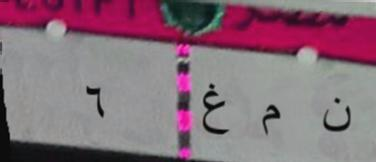6: (83, 82, 110, 121)
ghayn: (198, 74, 231, 142)
meem: (256, 98, 286, 145)
noon: (314, 90, 356, 138)
